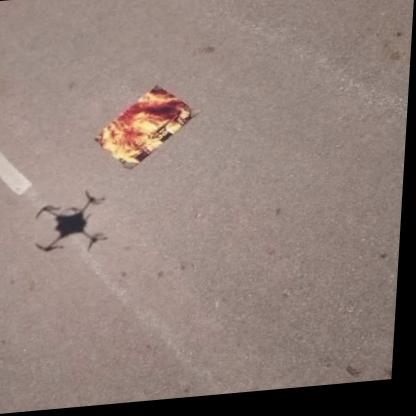fire-poster: (93, 83, 203, 175)
